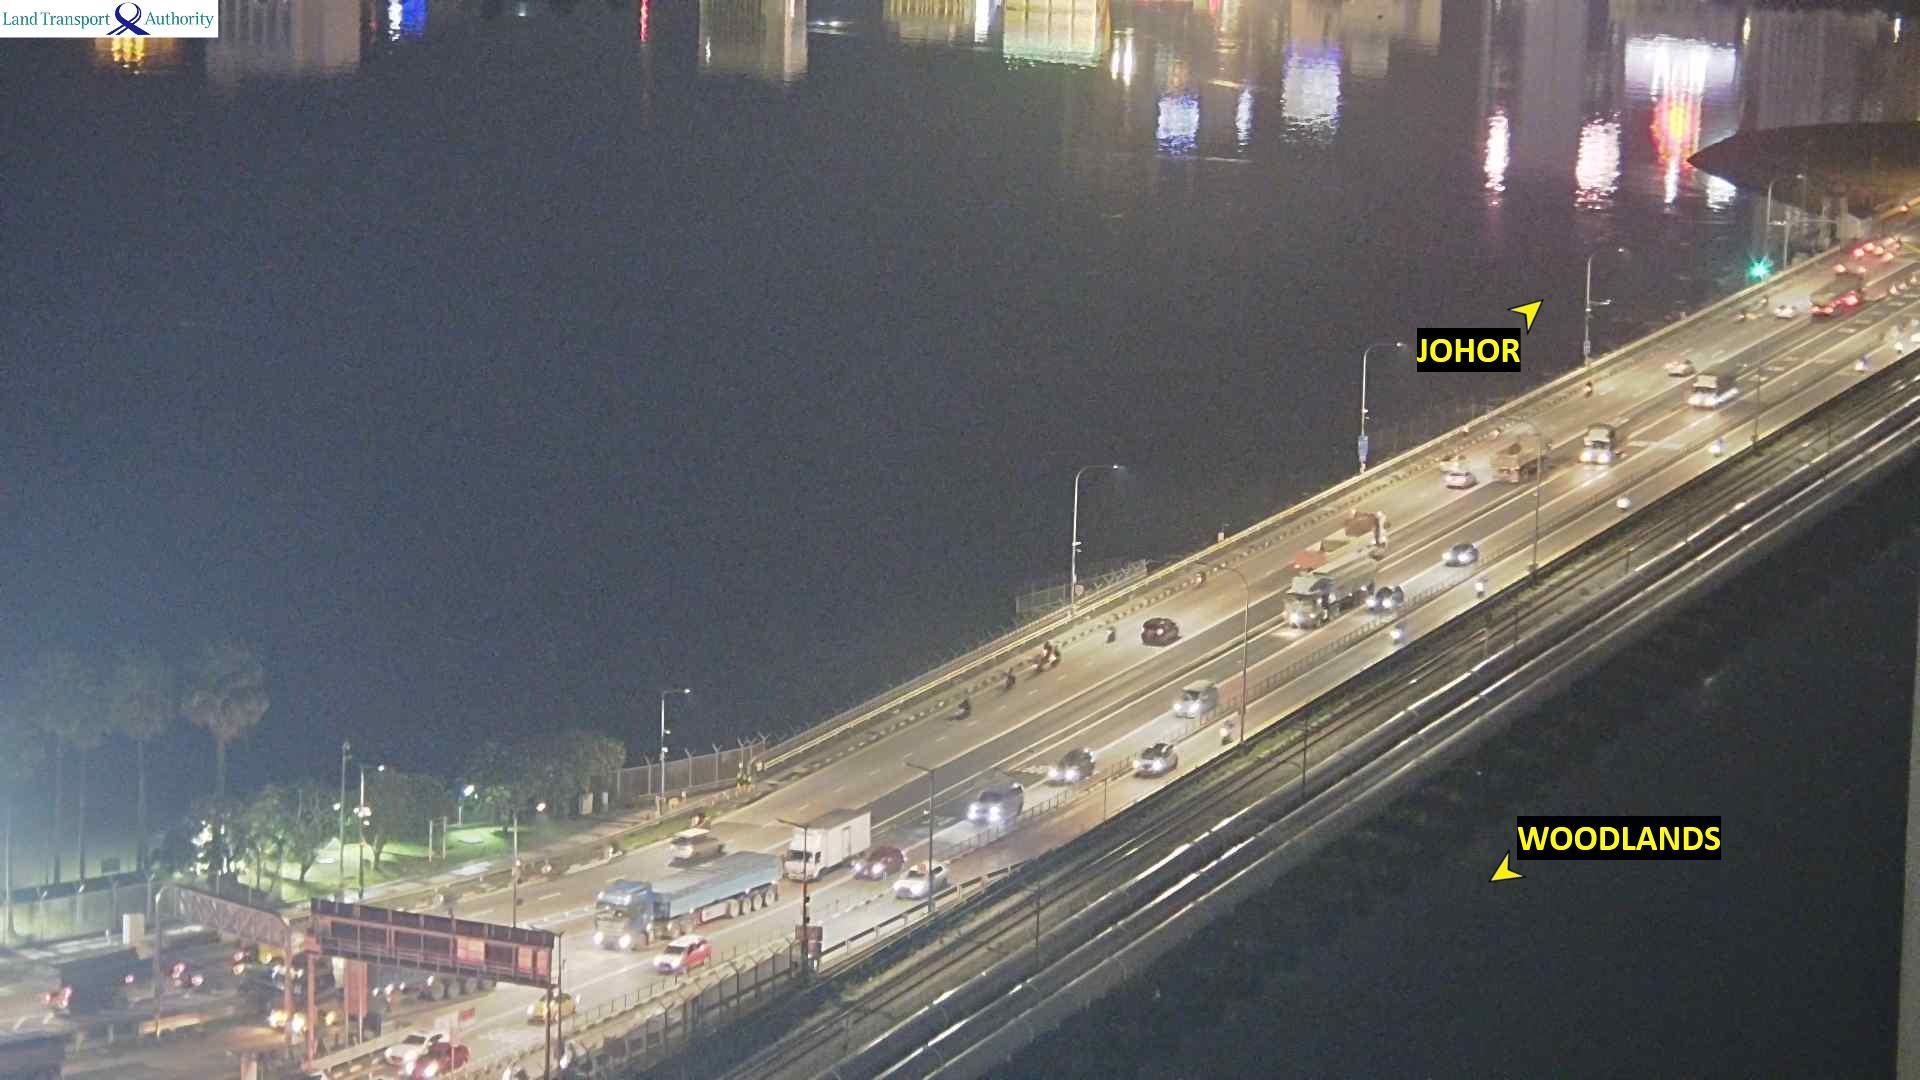vehicle-causeway-johor: (55, 953, 140, 1014), (1307, 512, 1387, 567), (173, 942, 248, 989), (1498, 435, 1553, 481), (1816, 280, 1865, 319), (671, 833, 732, 864), (1141, 617, 1180, 644), (1667, 356, 1700, 378), (1443, 471, 1481, 489), (1875, 248, 1896, 272), (953, 699, 973, 721), (1048, 641, 1065, 663), (1776, 303, 1797, 320), (1584, 373, 1594, 396), (1104, 628, 1118, 644), (1735, 309, 1749, 326), (1191, 575, 1208, 585), (1833, 264, 1847, 276), (1857, 266, 1867, 278), (1762, 295, 1771, 307), (1857, 243, 1866, 255)
vehicle-causeway-singapore: (578, 864, 777, 944), (1288, 563, 1373, 628), (789, 814, 869, 876), (649, 939, 713, 971), (981, 794, 1034, 832), (419, 1040, 469, 1079), (858, 847, 902, 887), (890, 870, 947, 899), (388, 1030, 438, 1062), (1050, 753, 1097, 786), (524, 994, 580, 1019), (1134, 746, 1178, 778), (1691, 375, 1731, 406), (1175, 688, 1215, 719), (1580, 442, 1625, 467), (1365, 584, 1402, 612), (1447, 543, 1482, 567), (1469, 575, 1493, 601), (1389, 624, 1407, 645), (1221, 721, 1234, 744)
